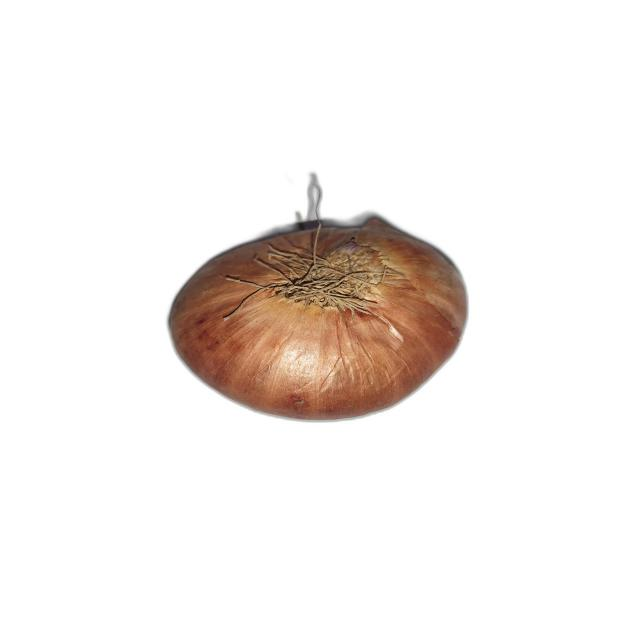onion: (169, 185, 470, 422)
